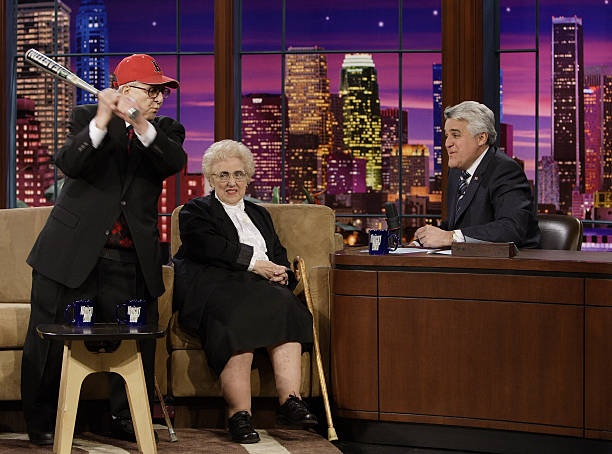bita: (23, 46, 140, 117)
